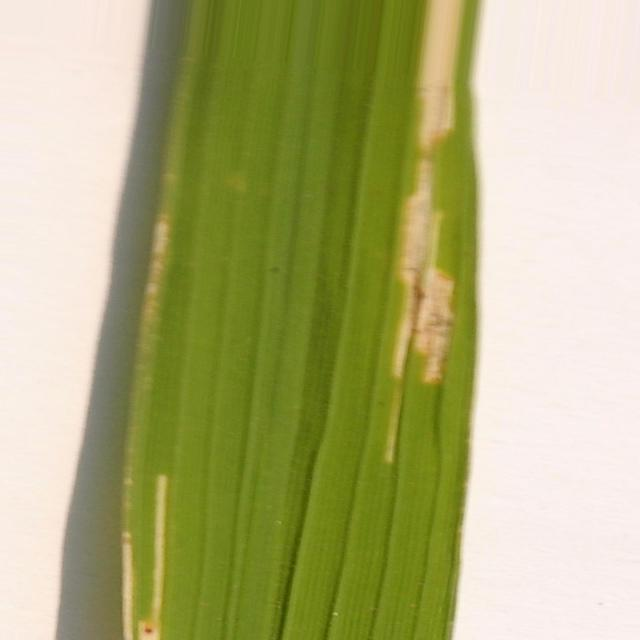Bacterial_Leaf_Blight: (387, 158, 456, 384), (420, 0, 464, 142), (139, 475, 169, 640), (121, 534, 134, 640)
